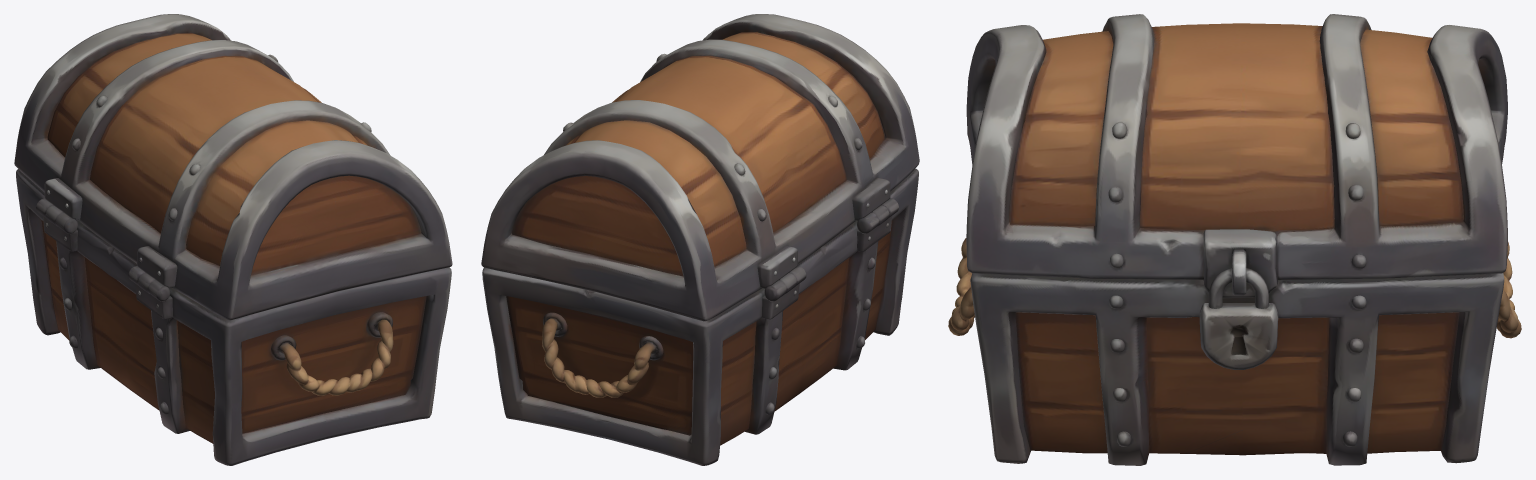
The model's file is 07-chest.glb.
The picture shows the model from 3 angles, left to right: view 1: azimuth 30°, elevation 25°; view 2: azimuth 150°, elevation 25°; view 3: azimuth 270°, elevation 25°; orthographic projection. The views are drawn at different scales.
Parts seen in each view (by area): view 1: tripo_node_450b889a-dc1b-479d-9c7b-4876f81ecf9d; view 2: tripo_node_450b889a-dc1b-479d-9c7b-4876f81ecf9d; view 3: tripo_node_450b889a-dc1b-479d-9c7b-4876f81ecf9d.
Boxes of the visible parts, bbox=[...] form: tripo_node_450b889a-dc1b-479d-9c7b-4876f81ecf9d: bbox=[14, 14, 452, 465]; tripo_node_450b889a-dc1b-479d-9c7b-4876f81ecf9d: bbox=[481, 14, 919, 465]; tripo_node_450b889a-dc1b-479d-9c7b-4876f81ecf9d: bbox=[948, 14, 1521, 465].
Bounding box in the file's own units: 0.7241 × 0.7134 × 0.9995.
1 material, 1 textured.
